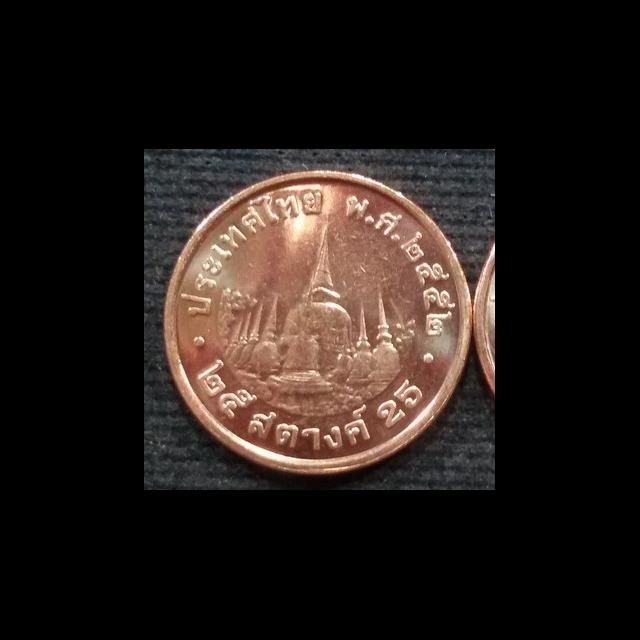25-satang: (145, 151, 481, 486)
